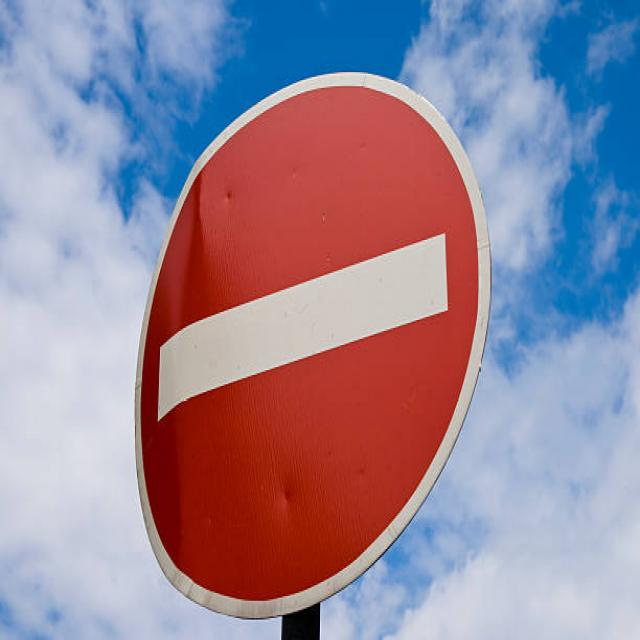do_not_enter: (126, 55, 504, 623)
